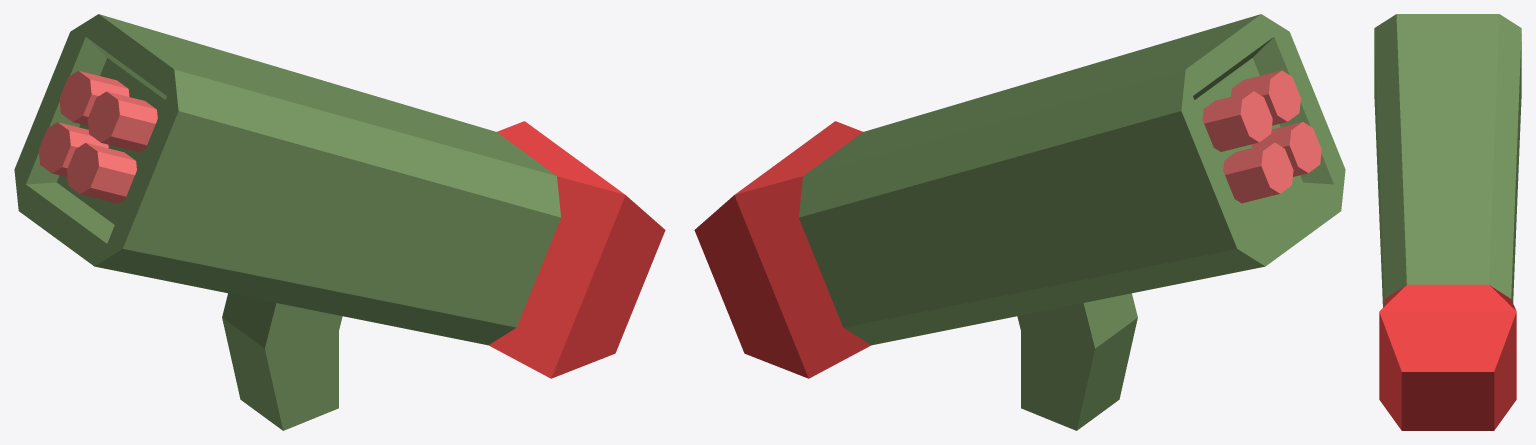
File: GunLeft-col.glb
The picture shows the model from 3 angles, left to right: view 1: azimuth 30°, elevation 25°; view 2: azimuth 150°, elevation 25°; view 3: azimuth 270°, elevation 25°; orthographic projection. The views are drawn at different scales.
Visible parts, largest first — view 1: GunLeft-col; view 2: GunLeft-col; view 3: GunLeft-col.
Boxes of the visible parts, x1=… form: GunLeft-col: x1=14, y1=14, x2=665, y2=430; GunLeft-col: x1=694, y1=14, x2=1345, y2=430; GunLeft-col: x1=1374, y1=14, x2=1521, y2=430.
Bounding box in the file's own units: 2.82 × 1.9 × 0.9209.
